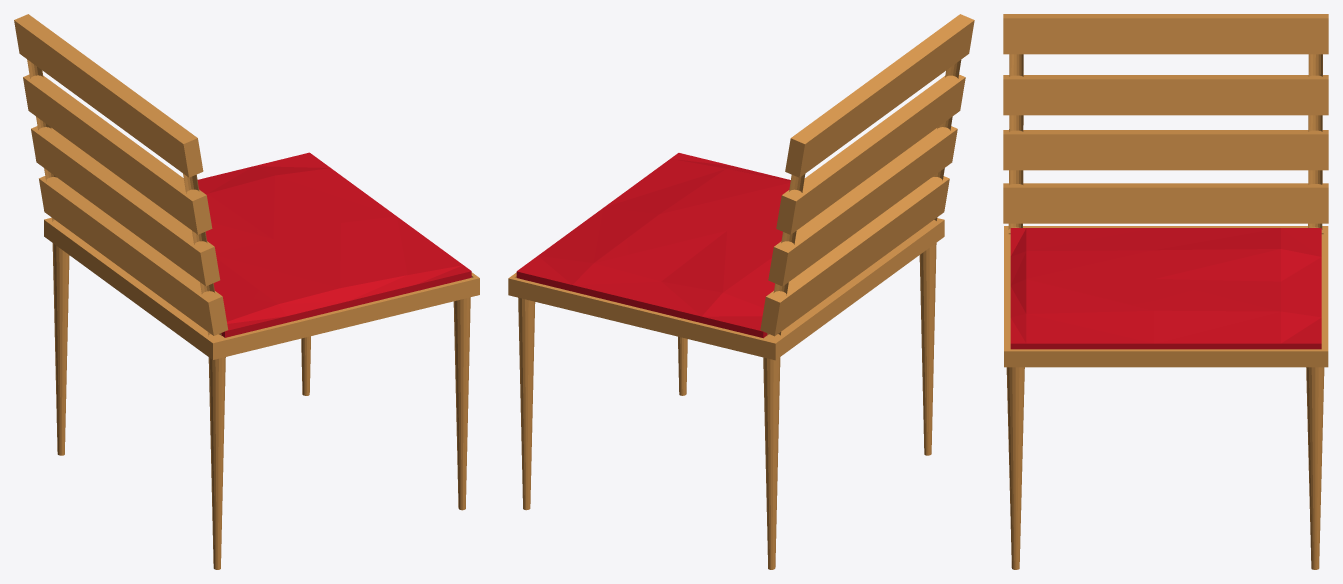
File: chair1.gltf
3 views of the same model, side by side, from view 1: azimuth 30°, elevation 25°; view 2: azimuth 150°, elevation 25°; view 3: azimuth 270°, elevation 25° (orthographic). The views are drawn at different scales.
Visible parts, largest first — view 1: Cube_022_Cube.023, Cube_021_Cube.020; view 2: Cube_022_Cube.023, Cube_021_Cube.020; view 3: Cube_022_Cube.023, Cube_021_Cube.020.
Part boxes in pixels (left/top/right/bottom): Cube_022_Cube.023: left=14, top=14, right=479, bottom=569; Cube_021_Cube.020: left=197, top=152, right=471, bottom=337; Cube_022_Cube.023: left=508, top=14, right=974, bottom=569; Cube_021_Cube.020: left=516, top=153, right=790, bottom=338; Cube_022_Cube.023: left=1003, top=14, right=1328, bottom=569; Cube_021_Cube.020: left=1010, top=228, right=1321, bottom=349.
Size of the model in its own units: 0.4328 by 0.615 by 0.4283.
